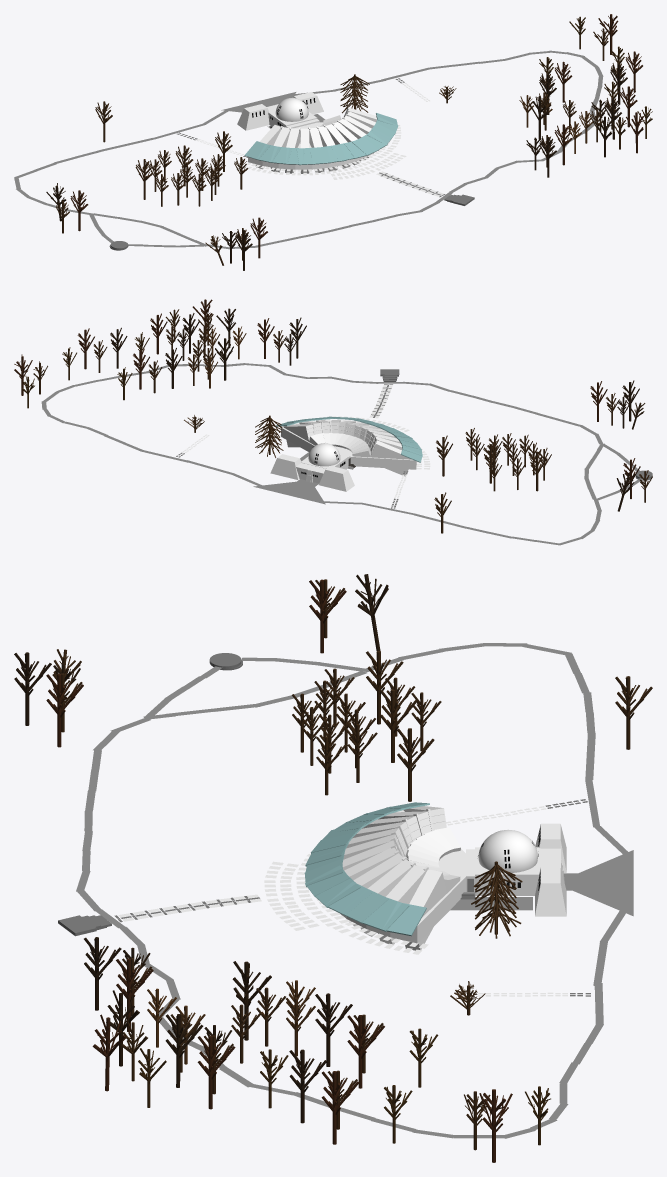
File: asmundarsafn14_56.obj
3 renders of one model, top to bottom at view 1: azimuth 30°, elevation 25°; view 2: azimuth 150°, elevation 25°; view 3: azimuth 270°, elevation 25°, orthographic. The views are drawn at different scales.
Visible parts, largest first — view 1: Plane.001, Cube.047, Cube.033, syningarsalur, Sphere, h_hlid, Cylinder.066; view 2: Plane.001, Cube.033, syningarsalur, Cube.047, h_hlid, Sphere, v_hlid, Cylinder.066, adaldyr; view 3: Plane.001, Cube.033, Cube.047, syningarsalur, Sphere, v_hlid, Cylinder.066, innanhus.
Part boxes in pixels (left/top/right/bottom): Plane.001: left=14, top=50, right=603, bottom=250; Cube.047: left=244, top=113, right=398, bottom=165; Cube.033: left=255, top=107, right=376, bottom=173; syningarsalur: left=248, top=122, right=373, bottom=169; Sphere: left=275, top=98, right=308, bottom=121; h_hlid: left=237, top=104, right=269, bottom=130; Cylinder.066: left=340, top=74, right=369, bottom=113; Plane.001: left=41, top=363, right=650, bottom=545; Cube.033: left=283, top=420, right=411, bottom=476; syningarsalur: left=281, top=420, right=416, bottom=469; Cube.047: left=276, top=416, right=422, bottom=462; h_hlid: left=319, top=466, right=354, bottom=491; Sphere: left=308, top=443, right=340, bottom=466; v_hlid: left=270, top=454, right=301, bottom=479; Cylinder.066: left=255, top=415, right=283, bottom=457; adaldyr: left=296, top=463, right=325, bottom=483; Plane.001: left=58, top=643, right=633, bottom=1138; Cube.033: left=342, top=806, right=460, bottom=950; Cube.047: left=304, top=802, right=429, bottom=936; syningarsalur: left=341, top=810, right=465, bottom=943; Sphere: left=478, top=829, right=537, bottom=872; v_hlid: left=535, top=867, right=566, bottom=916; Cylinder.066: left=473, top=861, right=522, bottom=938; innanhus: left=475, top=847, right=540, bottom=895.
Size of the model in its own units: 160 by 12.29 by 80.33.
